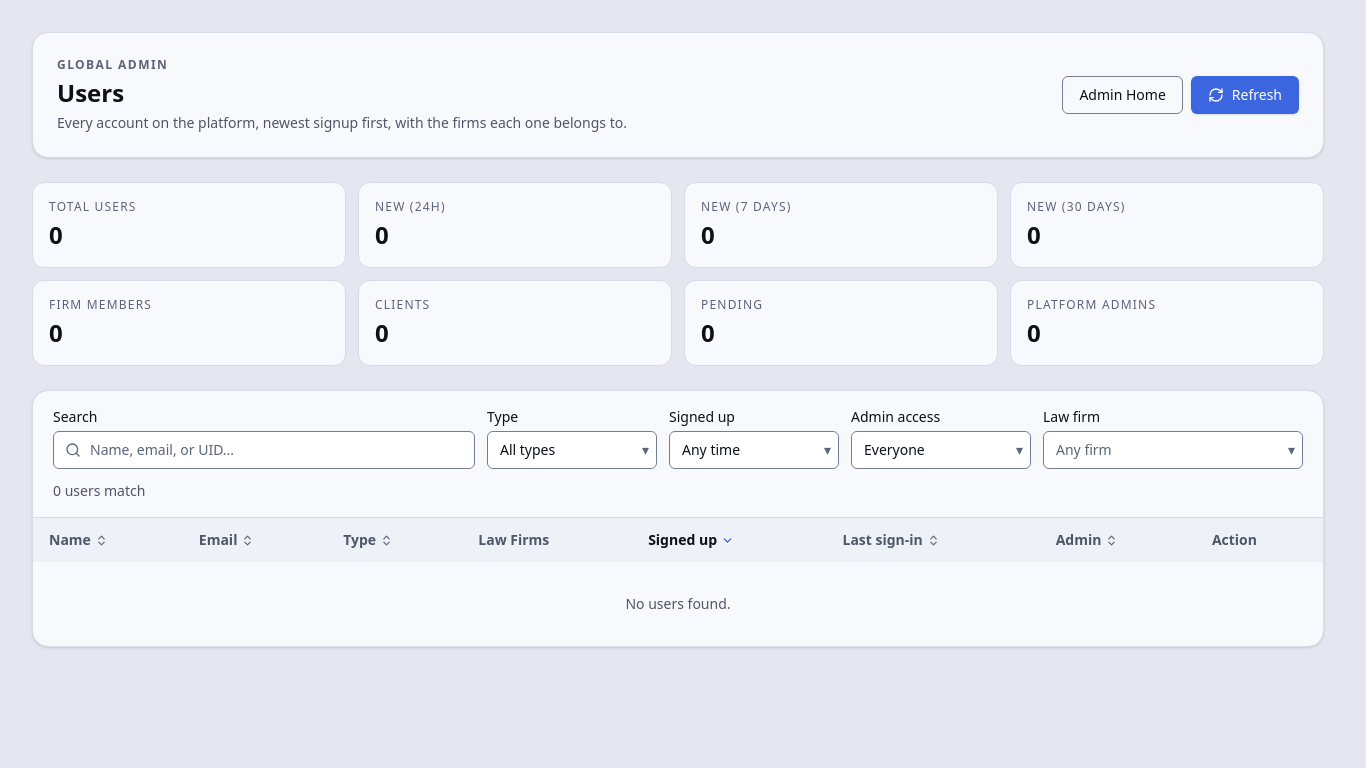
Scenario: AdminUsersPage search race › keeps the newest search's rows, even when an earlier search's slower response arrives after it
Type "sm" into the field with placeholder "Name, email, or UID...".
click(264, 450); type("sm")  # box [53, 431, 475, 469]
Wait 350 ms
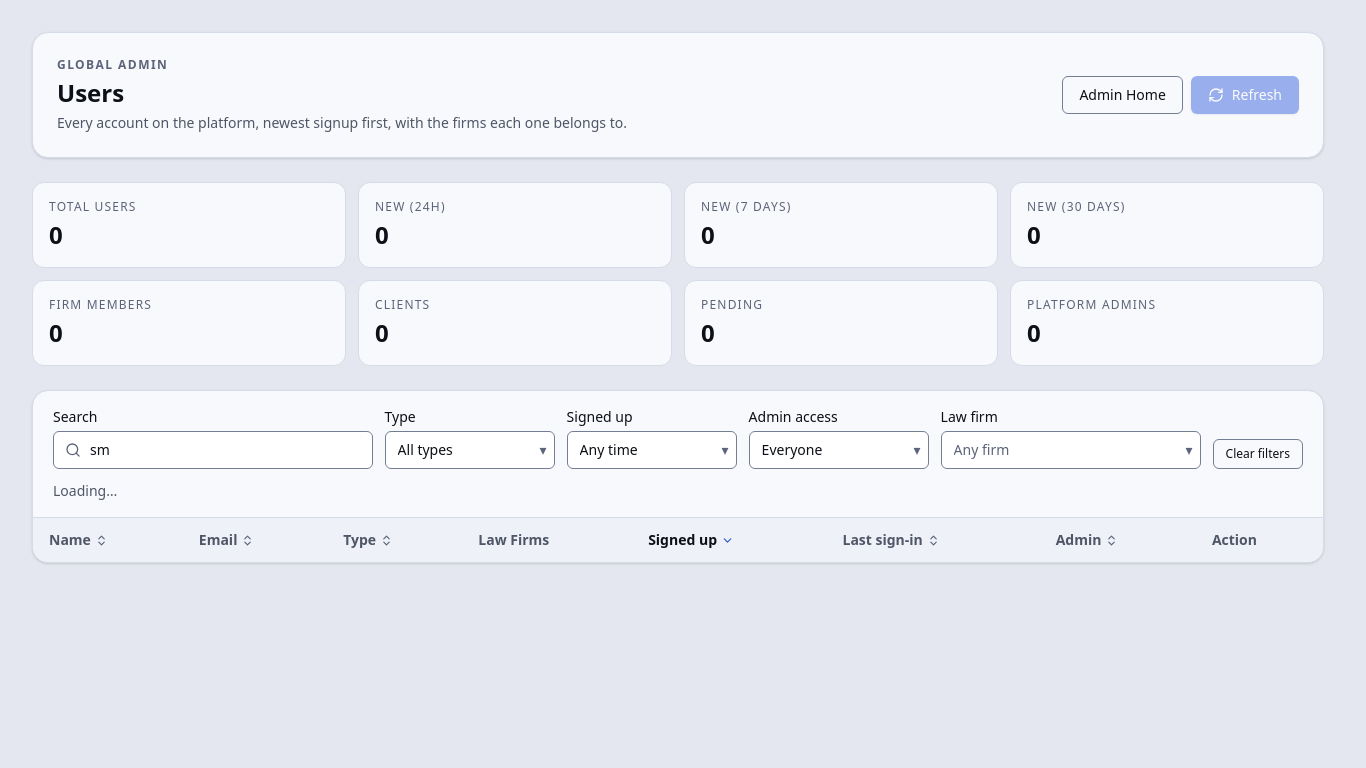
Replace the text in the field with placeholder "Name, email, or UID..." with "smith" at coordinates (213, 450), box [53, 431, 373, 469]
Wait 860 ms
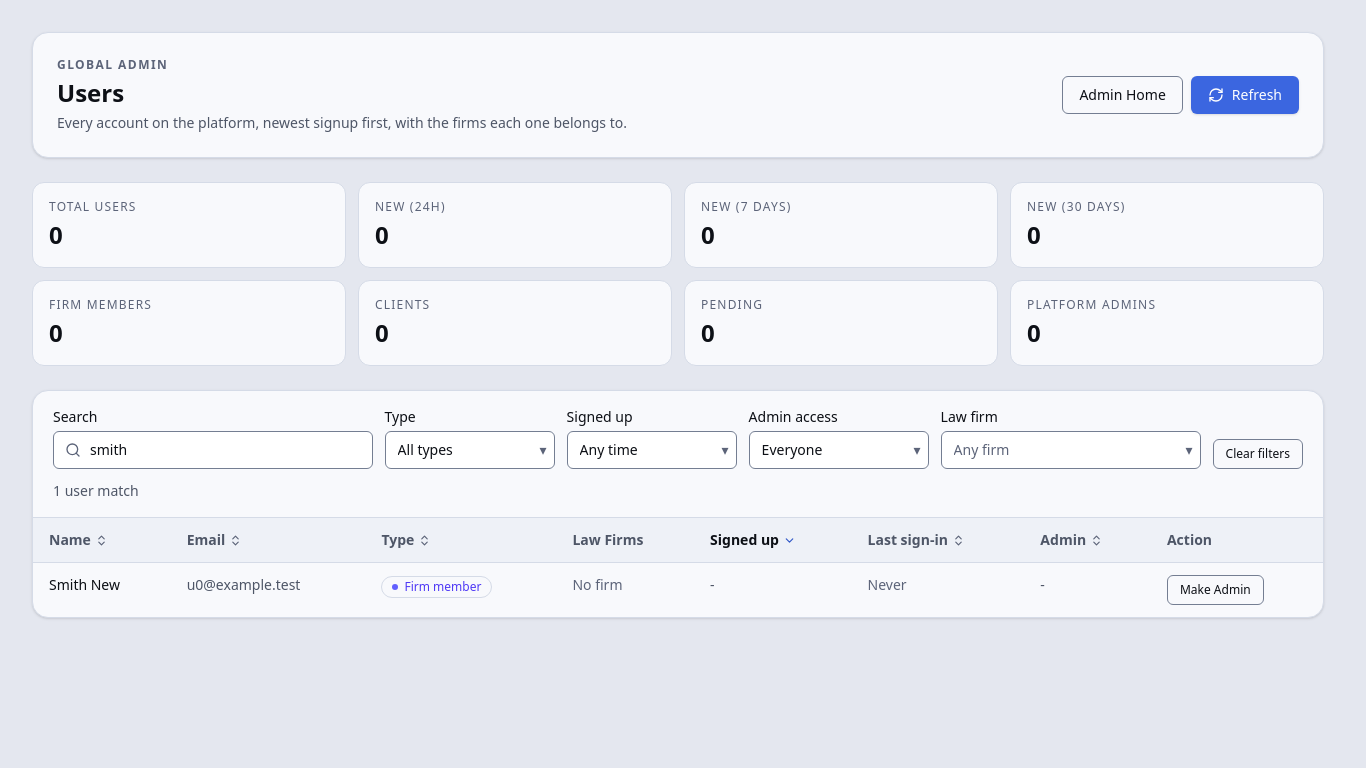
Result: the text "Smith New" is shown at [33, 562, 171, 617]
